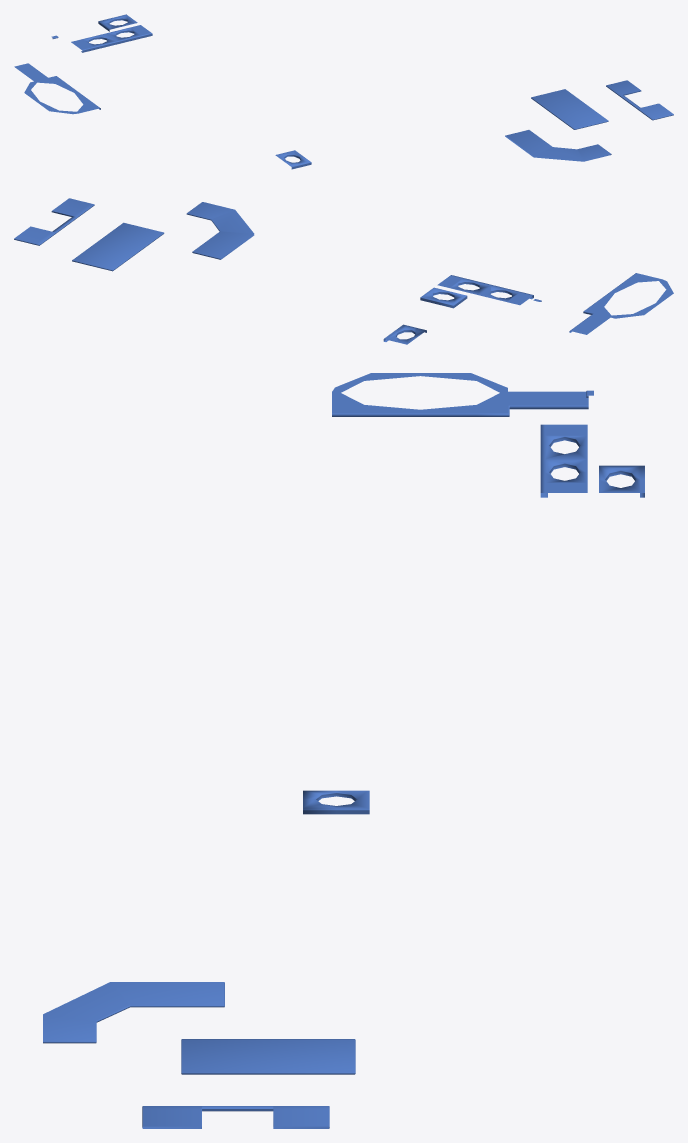
File: Subsurfed_Porch.023.obj
3 views of the same model, one above another, from view 1: azimuth 30°, elevation 25°; view 2: azimuth 150°, elevation 25°; view 3: azimuth 270°, elevation 25° (orthographic). The views are drawn at different scales.
Visible parts, largest first — view 1: Subsurfed_Porch.023_Cube.001; view 2: Subsurfed_Porch.023_Cube.001; view 3: Subsurfed_Porch.023_Cube.001.
Boxes of the visible parts, left/top/right/bottom form: Subsurfed_Porch.023_Cube.001: left=14, top=14, right=673, bottom=169; Subsurfed_Porch.023_Cube.001: left=14, top=198, right=673, bottom=344; Subsurfed_Porch.023_Cube.001: left=43, top=373, right=644, bottom=1128.
Size of the model in its own units: 17.99 by 3.64 by 8.26.
